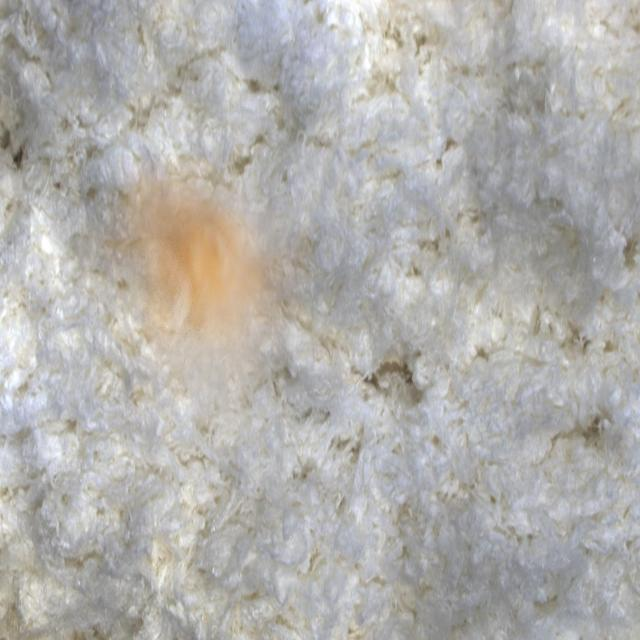dust: (82, 154, 309, 447)
